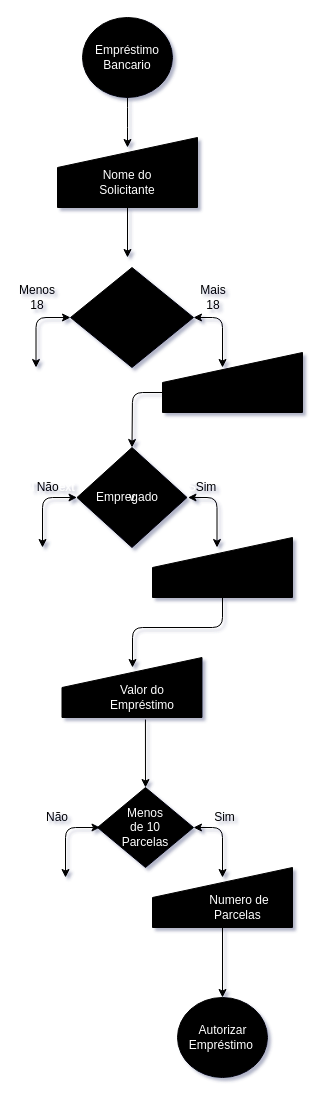
The diagram is 326 pixels wide and 1101 high, and some of its shapes have lost their labels. The box of each missing label's shape, as (x1, y1, x2, y2) in pixels:
digitar idade maior que 23: (162, 352, 302, 412)
Idade: (70, 266, 194, 368)
Valor do salario: (152, 536, 292, 598)
